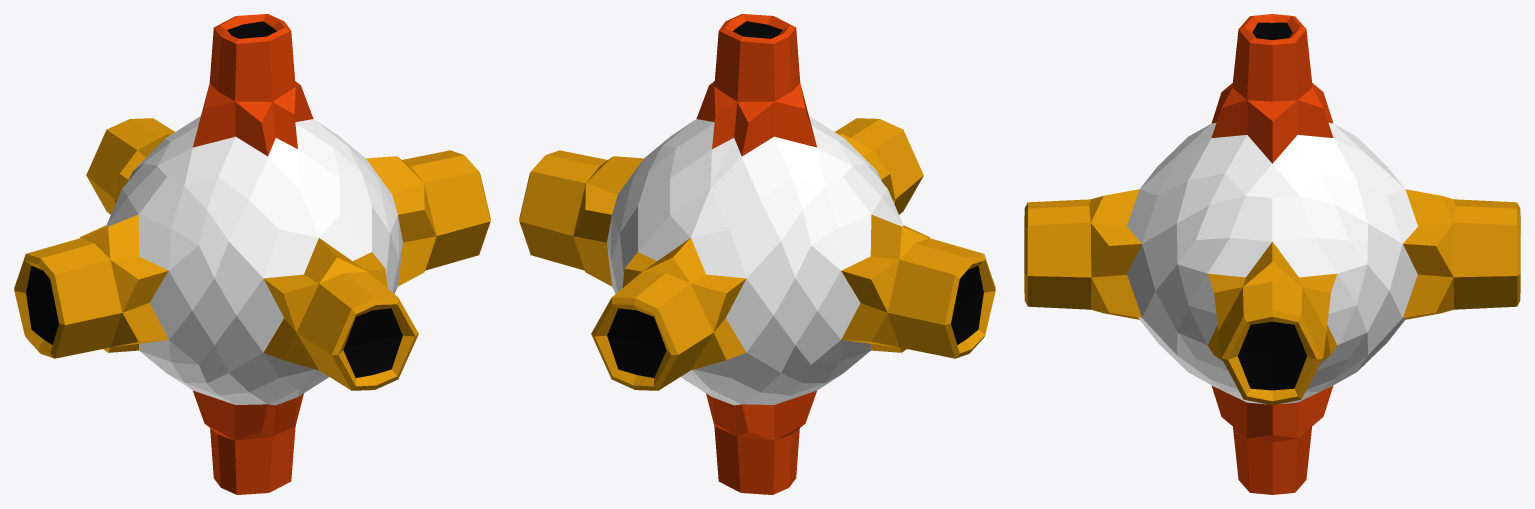
Rendered from Mine.fbx.
3 renders of one model, left to right at view 1: azimuth 30°, elevation 25°; view 2: azimuth 150°, elevation 25°; view 3: azimuth 270°, elevation 25°, orthographic.
Visible parts, largest first — view 1: Cube; view 2: Cube; view 3: Cube.
Boxes of the visible parts, box(x1,y1,x2,y2) form: Cube: box(14, 14, 490, 494); Cube: box(519, 14, 995, 494); Cube: box(1024, 14, 1520, 494).
Size of the model in its own units: 391 by 395 by 391.
